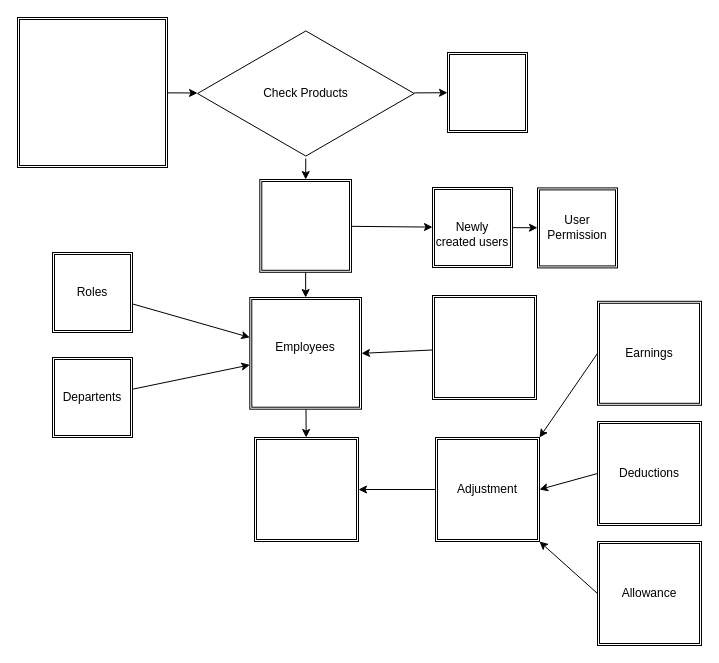
Some shapes in this 719 by 663 pixel diagram are drawn without their labels. The shapes that lost their labels are listed below. From the top down, each one's centre as x and y in pixels, then its label:
At [92,92]: "Login".
At [487,92]: "Others".
At [305,225]: "Payroll Management".
At [484,347]: "Employee Details".
At [306,489]: "Payroll".
